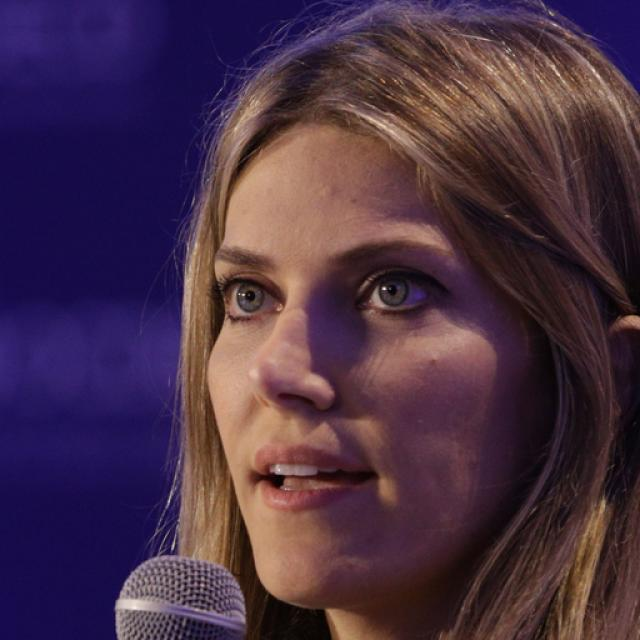Acne: (413, 347, 453, 372), (464, 442, 492, 477)
